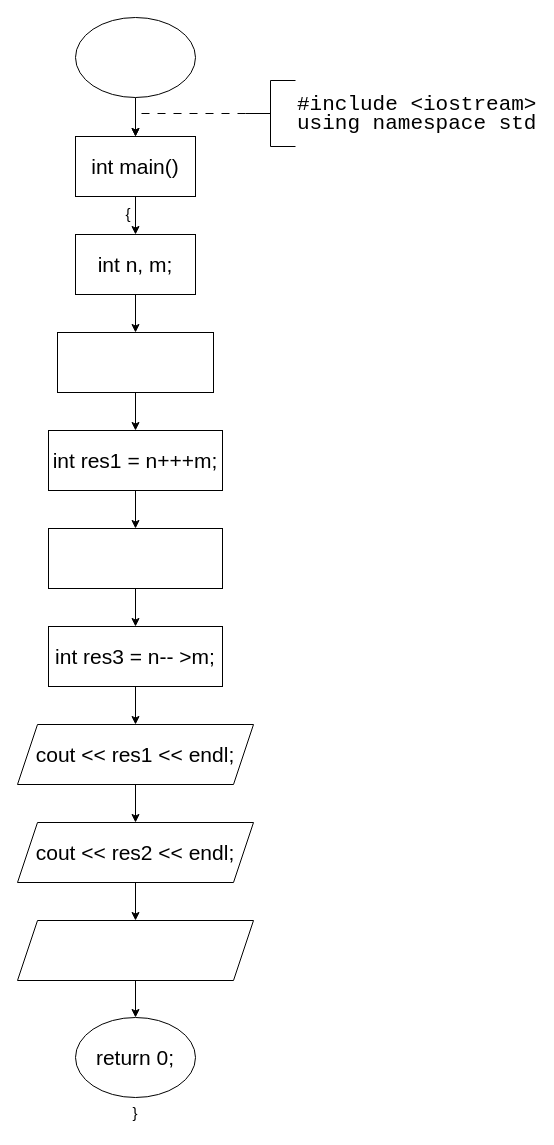
Image size: 554x1145. Some labels were removed from this diagram. The shapes that lost their labels are listed below. From the top down, each one's centre as x and y in pixels, then its label:
At pixel 135 57: "Начало".
At pixel 135 362: "cin >> n >> m;".
At pixel 135 558: "int res2 = m-- >n;".
At pixel 135 950: "cout << res3 << endl;".
